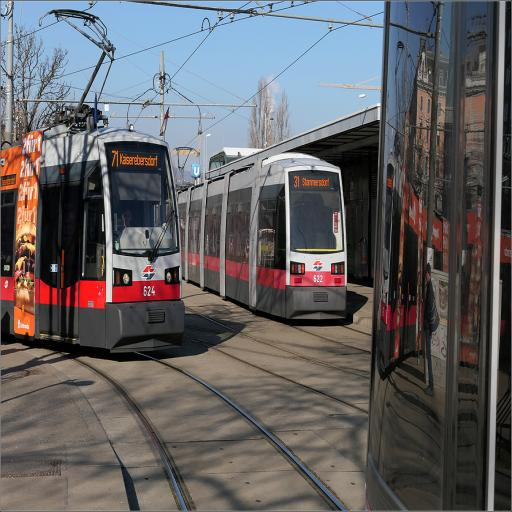ULF: (0, 127, 188, 356), (182, 153, 348, 324)
